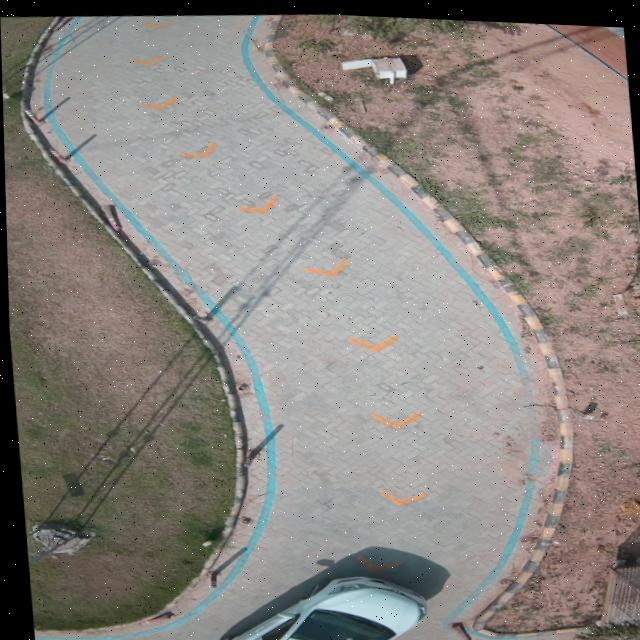car: (214, 572, 423, 640)
